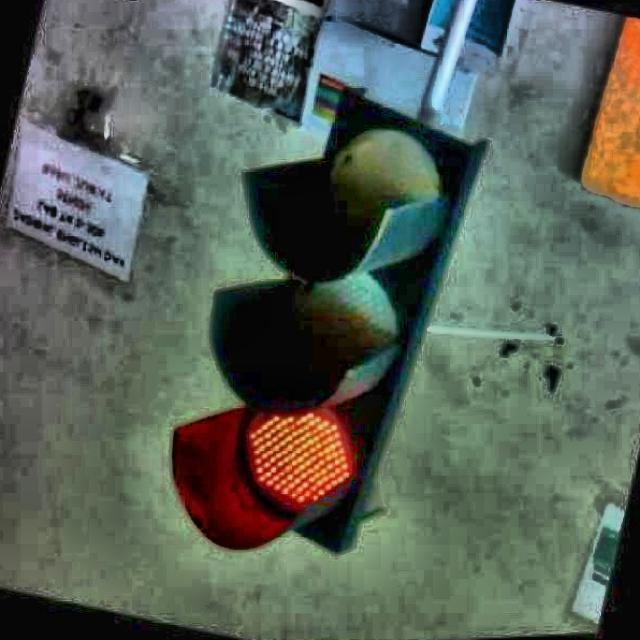red: (208, 91, 454, 568)
